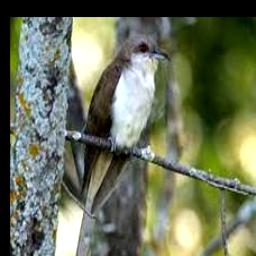Cuckoo: (71, 34, 172, 256)
